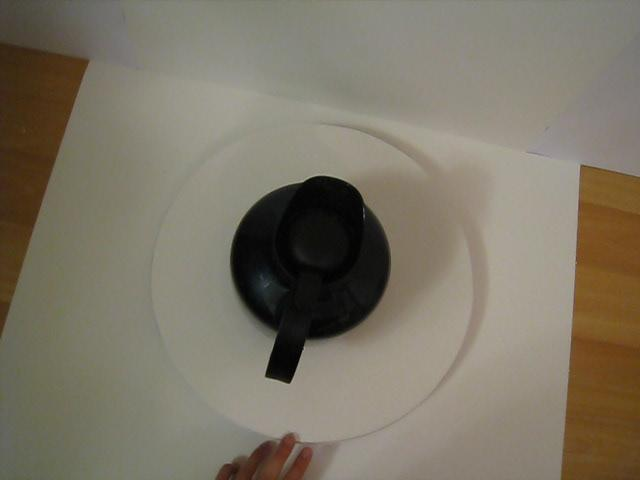pitcher: (223, 154, 402, 397)
